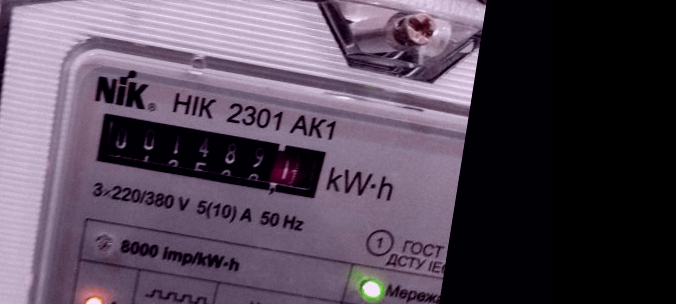0: (139, 123, 158, 151), (111, 123, 130, 150)
1: (167, 127, 185, 158), (277, 150, 293, 182)
4: (194, 132, 214, 160)
8: (219, 136, 240, 165)
9: (248, 143, 267, 170)
screen: (78, 99, 343, 214)
